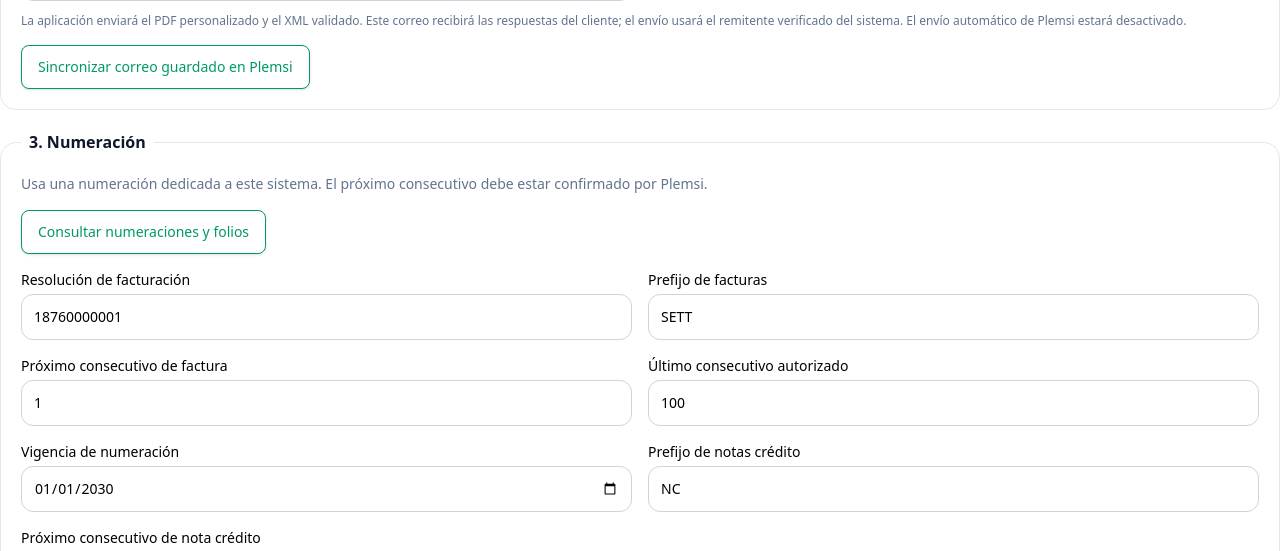
Test: Configuración empresarial de facturación › seleccionar un rango sin consecutivo confirmado no propone su inicio
(page scrolled)
Click the button "Consultar numeraciones y folios": (144, 232) 21,210 -> 266,254
(page scrolled)
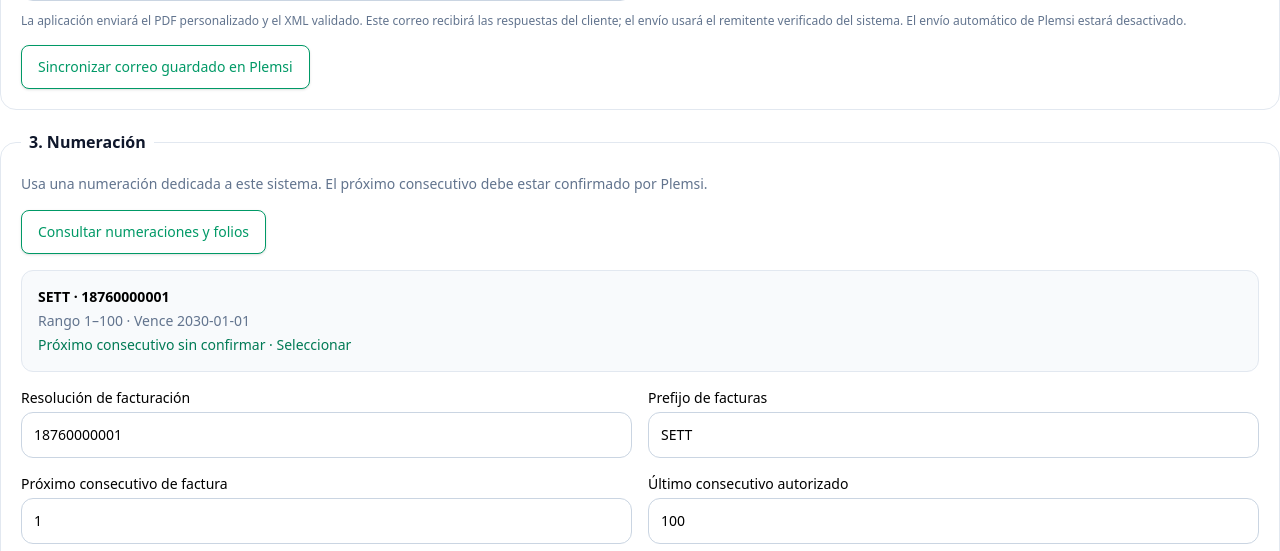
Expected: the text "Próximo consecutivo sin confirmar" is shown, 38,335 -> 351,354
Click the button that starts with "SETT · 18760000001": (104, 296) 21,270 -> 1259,372
(page scrolled)
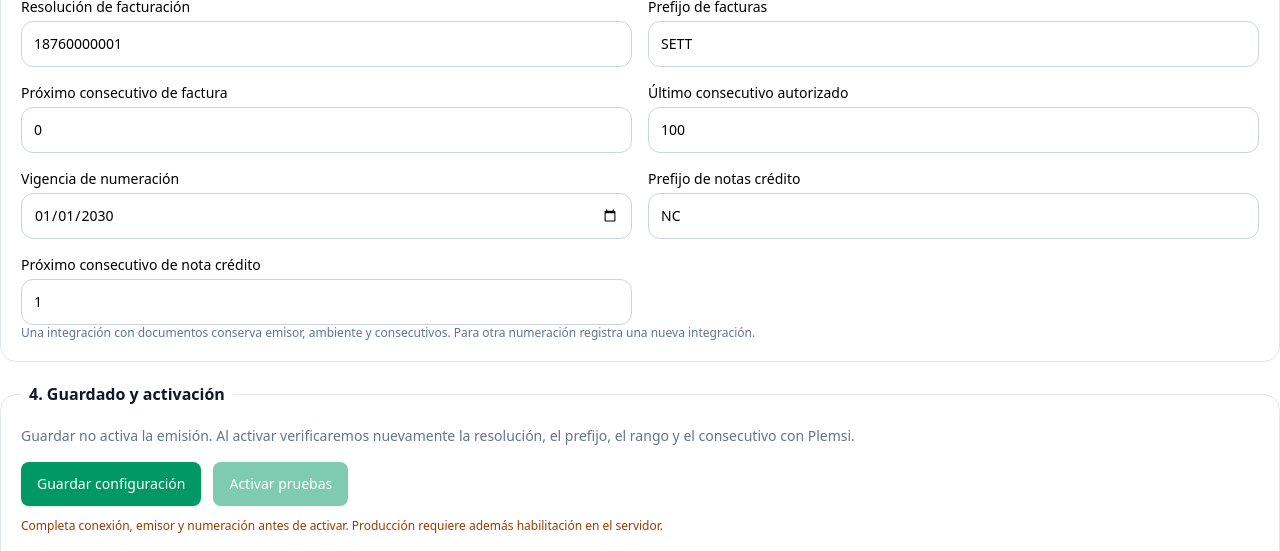
Expected: the number field labelled "Próximo consecutivo de factura" holds "0", 21,107 -> 632,153
Expected: the button "Activar pruebas" is disabled, 213,462 -> 348,506
